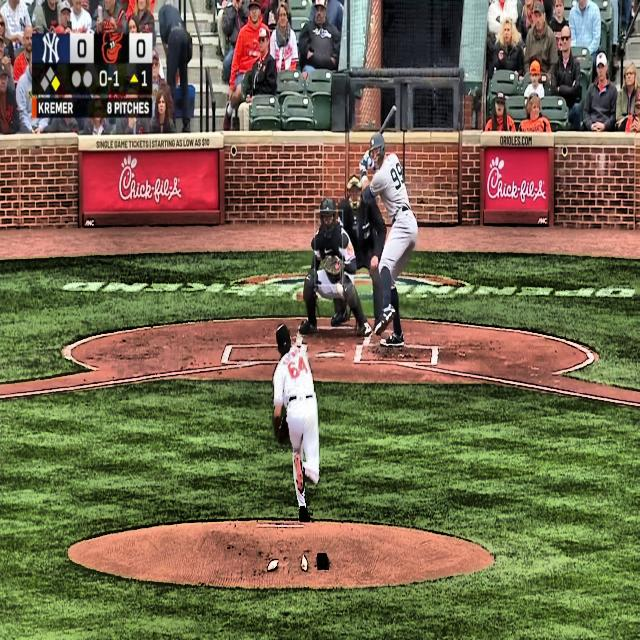baseball: (336, 283, 344, 297)
